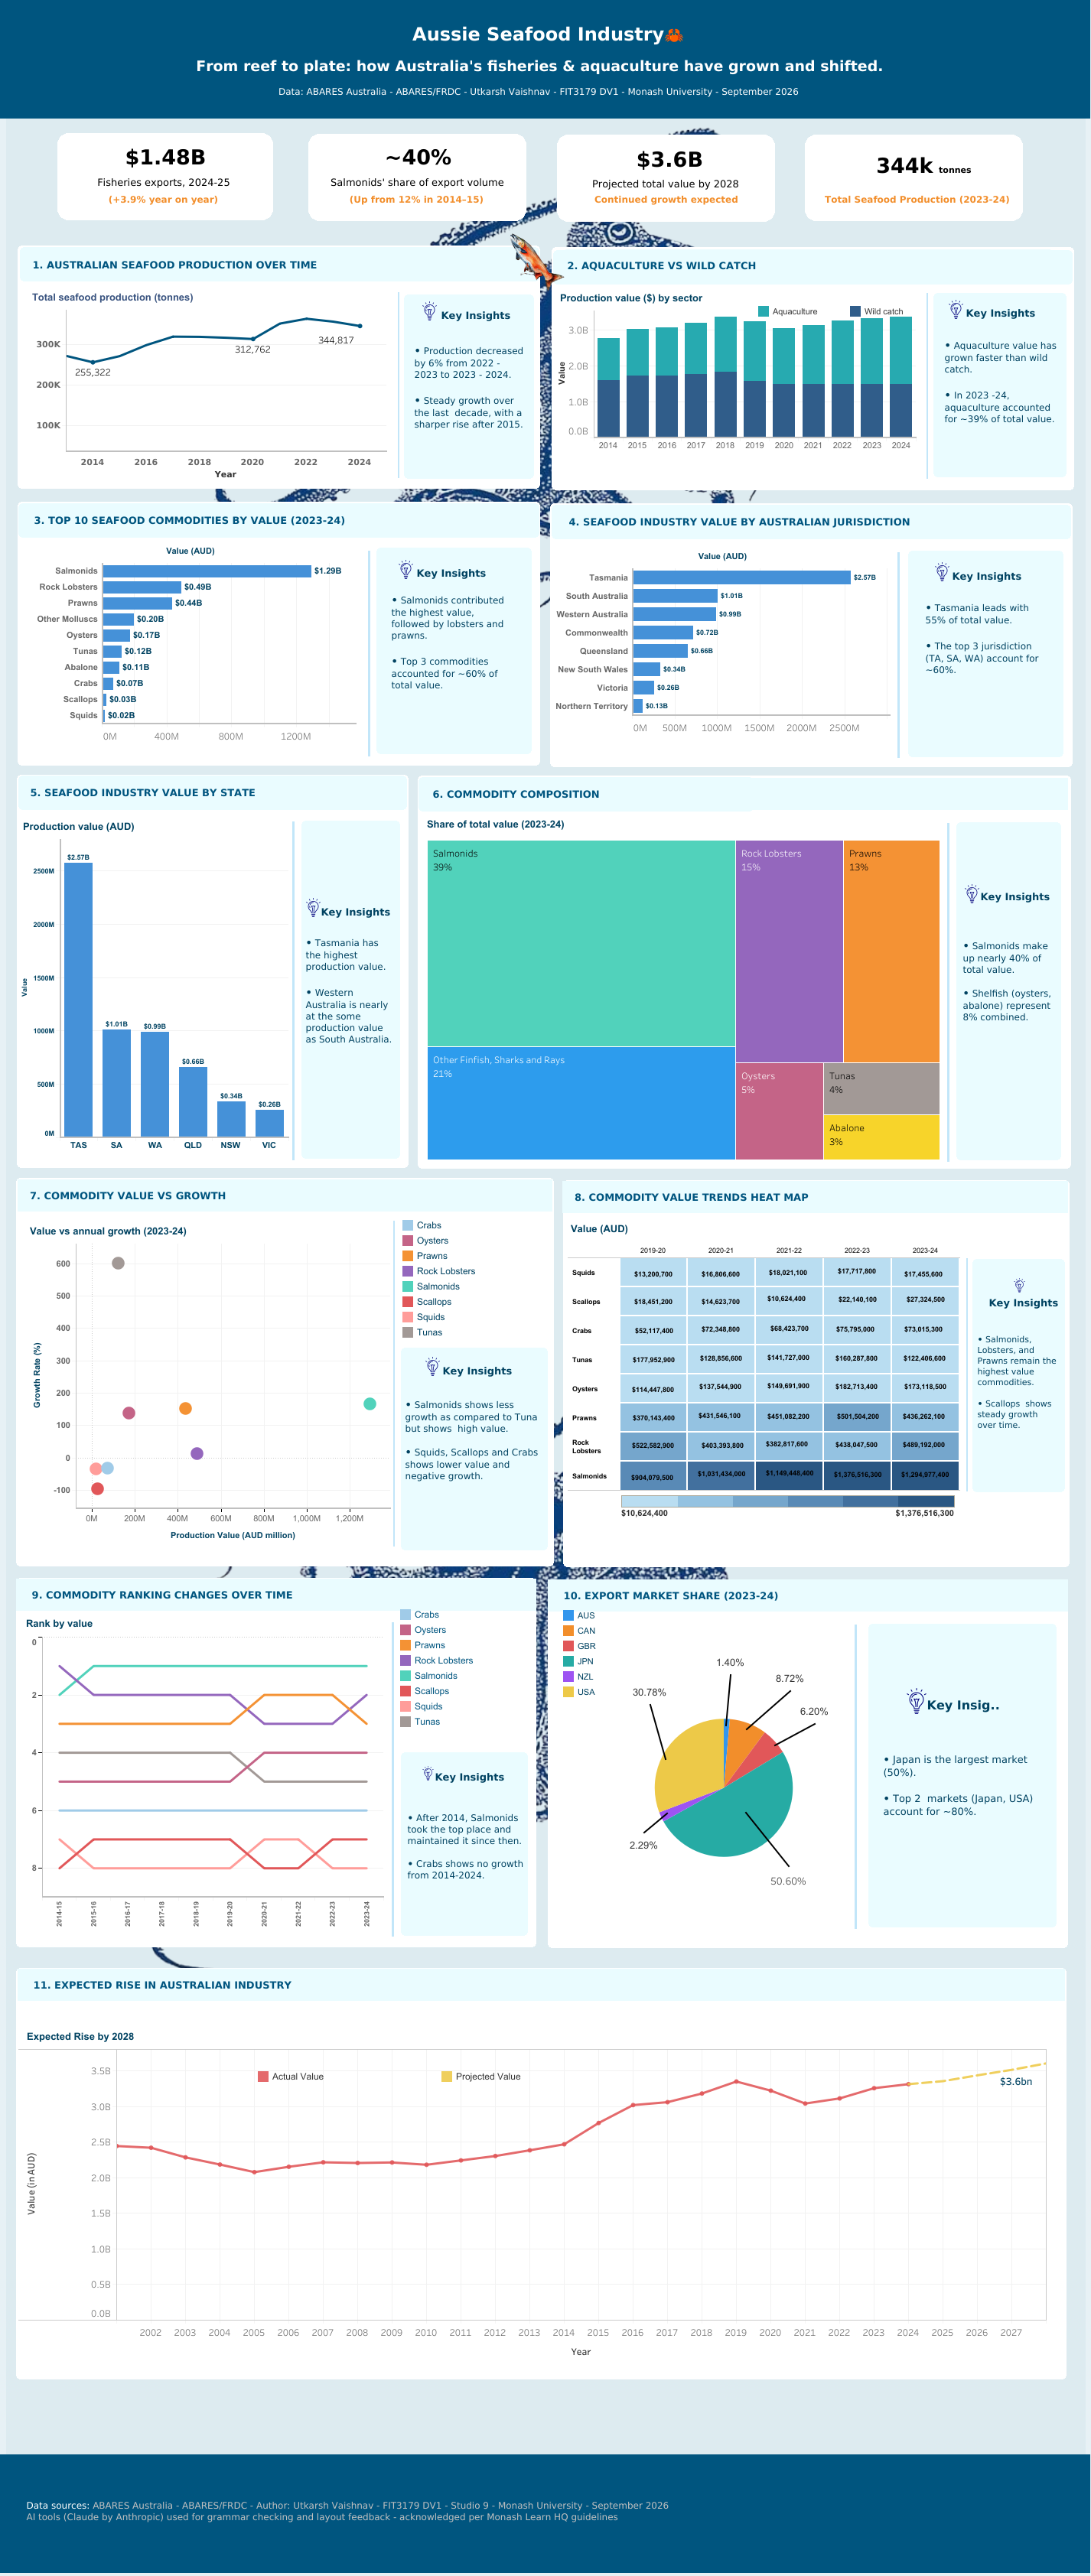

The page's visual inventory and layout, read from the dashboard file:
{"tool":"tableau","page":{"name":"Dashboard 1","canvas":[1427,3369],"ordinal":0},"visuals":[{"type":"text","box":[34.7,26,1338.1,186]},{"type":"text","box":[62.5,39,1285.3,94]},{"type":"image","param":"Image/ca36cdabced190f3acdcf8e02199de78-removebg-preview.png","box":[272,159,810,1063]},{"type":"text","box":[1138,183,139,66]},{"type":"text","box":[147,190,139,30]},{"type":"text","box":[477,190,139,30]},{"type":"text","box":[806,193,139,30]},{"type":"text","box":[398,205,295,67]},{"type":"text","box":[713,225,314,30]},{"type":"text","box":[79,229,270,19]},{"type":"text","box":[118,245,191,30]},{"type":"text","box":[386.3,245,316.8,30]},{"type":"text","box":[721.1,245,300.1,30]},{"type":"text","box":[1042,245,314,30]},{"type":"image","param":"Image/pngtree-salmon-fish-water-color-sketch-line-art-png-image_14902495-removeb","box":[654,294,92,88]},{"type":"text","box":[40,325,643,42]},{"type":"text","box":[739,326,634,42]},{"type":"worksheet","title":"Sheet 10","mark":"Line","rows":["Production (metric tons)"],"cols":["Year"],"box":[38,375,471,257]},{"type":"worksheet","title":"Wild-catch vs aquaculture","mark":"Bar","rows":["Value"],"cols":["Financial Year"],"box":[728,376,469,243]},{"type":"text","box":[1232,376,156,246]},{"type":"text","box":[539,383,149,246]},{"type":"image","param":"Image/images-removebg-preview.png","box":[1237,392,25,34]},{"type":"image","param":"Image/images-removebg-preview.png","box":[549,394,25,34]},{"type":"text","box":[1260,394,100,30]},{"type":"text","box":[574,397,100,30]},{"type":"legend","title":"Wild-catch vs aquaculture","param":"[federated.02ami820kcus3v1bk5k730sdf4ne].[none:Sector:nk]","box":[988,397,309,64]},{"type":"text","box":[42,659,643,42]},{"type":"text","box":[741,661,643,42]},{"type":"worksheet","title":"Sheet 11","mark":"Automatic","rows":["Commodity"],"cols":["Value"],"box":[33,708,432,303]},{"type":"text","box":[1207,711,164,246]},{"type":"worksheet","title":"Sheet 12","mark":"Automatic","rows":["F1"],"cols":["Value"],"box":[726,715,437,274]},{"type":"text","box":[509,716,164,246]},{"type":"image","param":"Image/images-removebg-preview.png","box":[518,732,25,34]},{"type":"text","box":[542,734,100,30]},{"type":"image","param":"Image/images-removebg-preview.png","box":[1219,735,25,34]},{"type":"text","box":[1242,738,100,30]},{"type":"text","box":[37,1015,484,42]},{"type":"text","box":[563,1017,833,42]},{"type":"worksheet","title":"Sheet 14","mark":"Automatic","box":[554,1064,680,456]},{"type":"worksheet","title":"Sheet 13","mark":"Bar","rows":["Value"],"cols":["Calculation_1604505215623168"],"box":[26,1067,351,444]},{"type":"text","box":[1256,1154,127,257]},{"type":"image","param":"Image/images-removebg-preview.png","box":[1258,1156,25,34]},{"type":"text","box":[1279,1157,106,30]},{"type":"image","param":"Image/images-removebg-preview.png","box":[397,1174,25,34]},{"type":"text","box":[417,1177,95,30]},{"type":"text","box":[397,1178,123,233]},{"type":"text","box":[23,1542,699,42]},{"type":"text","box":[735,1544,661,42]},{"type":"legend","title":"Sheet 15","param":"[federated.05oxep411x14ya19kbubf0vvo4pn].[none:Commodity:nk]","box":[523,1592,156,239]},{"type":"worksheet","title":"Sheet 16","mark":"Square","rows":["Commodity"],"cols":["Financial Year"],"box":[741,1593,631,399]},{"type":"worksheet","title":"Sheet 15","mark":"Circle","cols":["Value"],"box":[35,1596,475,418]},{"type":"image","param":"Image/images-removebg-preview.png","box":[1323,1671,19,27]},{"type":"text","box":[1290,1688,106,30]},{"type":"text","box":[1275,1700,110,214]},{"type":"image","param":"Image/images-removebg-preview.png","box":[553,1774,25,34]},{"type":"text","box":[527,1775,185,214]},{"type":"text","box":[576,1777,100,30]},{"type":"legend","title":"Sheet 16","param":"[federated.05oxep411x14ya19kbubf0vvo4pn].[sum:Value:qk]","box":[808,1951,444,54]},{"type":"text","box":[21,2064,680,42]},{"type":"text","box":[716,2065,680,42]},{"type":"legend","title":"Sheet 17","param":"[federated.05oxep411x14ya19kbubf0vvo4pn].[none:Commodity:nk]","box":[520,2101,166,188]},{"type":"legend","title":"Sheet 20","param":"[federated.1tkteve1dmtlg019dbazg057g01v].[none:Country Code:nk]","box":[733,2102,79,173]},{"type":"worksheet","title":"Sheet 17","mark":"Line","cols":["Financial Year"],"box":[29,2109,474,431]},{"type":"worksheet","title":"Sheet 20","mark":"Pie","box":[736,2142,475,446]},{"type":"text","box":[1152,2176,223,316]},{"type":"image","param":"Image/images-removebg-preview.png","box":[1181,2207,34,65]},{"type":"text","box":[1209,2214,106,30]},{"type":"image","param":"Image/images-removebg-preview.png","box":[435,2239,25,34]},{"type":"text","box":[530,2307,159,214]},{"type":"text","box":[566,2308,106,30]},{"type":"image","param":"Image/images-removebg-preview.png","box":[550,2309,19,27]},{"type":"text","box":[23,2574,1369,42]},{"type":"worksheet","title":"Projection Value","mark":"Line","rows":["Calculation_0567388670115846","Calculation_0567388668182533"],"cols":["Year"],"box":[24,2649,1344,442]},{"type":"legend","title":"Projection Value","param":"[federated.06z20yh0vod36c13aw7mb0q70pxr].[:Measure Names]","box":[334,2705,703,119]}]}

Visuals, with their boxes in screenshot pixels (x1, y1, x2, y2), scaled from the page's 1427x3369 canvas onto the 1091x2576 screenshot:
text: bbox=(27, 20, 1050, 162)
text: bbox=(47, 30, 1031, 102)
image: bbox=(208, 122, 827, 935)
text: bbox=(870, 140, 976, 190)
text: bbox=(112, 145, 219, 168)
text: bbox=(365, 145, 471, 168)
text: bbox=(616, 148, 722, 171)
text: bbox=(305, 157, 530, 208)
text: bbox=(545, 172, 785, 195)
text: bbox=(60, 175, 267, 190)
text: bbox=(90, 187, 236, 210)
text: bbox=(295, 187, 538, 210)
text: bbox=(552, 187, 780, 210)
text: bbox=(796, 187, 1037, 210)
image: bbox=(500, 225, 570, 292)
text: bbox=(31, 249, 523, 281)
text: bbox=(565, 249, 1050, 281)
"Sheet 10" worksheet (Line marks): bbox=(29, 287, 389, 483)
"Wild-catch vs aquaculture" worksheet (Bar marks): bbox=(556, 288, 915, 473)
text: bbox=(942, 288, 1061, 476)
text: bbox=(412, 293, 526, 481)
image: bbox=(946, 300, 965, 326)
image: bbox=(420, 301, 439, 327)
text: bbox=(963, 301, 1040, 324)
text: bbox=(439, 304, 516, 327)
"Wild-catch vs aquaculture" legend: bbox=(755, 304, 992, 353)
text: bbox=(32, 504, 524, 536)
text: bbox=(566, 506, 1058, 538)
"Sheet 11" worksheet: bbox=(25, 542, 356, 773)
text: bbox=(923, 544, 1048, 732)
"Sheet 12" worksheet: bbox=(555, 547, 889, 756)
text: bbox=(389, 548, 515, 736)
image: bbox=(396, 560, 415, 586)
text: bbox=(415, 561, 491, 584)
image: bbox=(932, 562, 951, 588)
text: bbox=(949, 564, 1026, 587)
text: bbox=(28, 776, 399, 808)
text: bbox=(431, 778, 1067, 810)
"Sheet 14" worksheet: bbox=(424, 814, 943, 1163)
"Sheet 13" worksheet (Bar marks): bbox=(20, 816, 288, 1156)
text: bbox=(960, 883, 1057, 1079)
image: bbox=(962, 884, 981, 910)
text: bbox=(978, 885, 1059, 908)
image: bbox=(304, 898, 323, 924)
text: bbox=(319, 900, 392, 923)
text: bbox=(304, 901, 398, 1079)
text: bbox=(18, 1179, 552, 1212)
text: bbox=(562, 1181, 1067, 1213)
"Sheet 15" legend: bbox=(400, 1218, 519, 1400)
"Sheet 16" worksheet (Square marks): bbox=(566, 1218, 1049, 1523)
"Sheet 15" worksheet (Circle marks): bbox=(27, 1221, 390, 1540)
image: bbox=(1011, 1278, 1026, 1298)
text: bbox=(986, 1290, 1067, 1313)
text: bbox=(975, 1299, 1059, 1463)
image: bbox=(423, 1356, 442, 1382)
text: bbox=(403, 1357, 545, 1521)
text: bbox=(441, 1358, 517, 1381)
"Sheet 16" legend: bbox=(617, 1491, 957, 1533)
text: bbox=(16, 1578, 536, 1610)
text: bbox=(547, 1579, 1067, 1611)
"Sheet 17" legend: bbox=(398, 1606, 525, 1750)
"Sheet 20" legend: bbox=(560, 1607, 620, 1739)
"Sheet 17" worksheet (Line marks): bbox=(22, 1612, 385, 1942)
"Sheet 20" worksheet (Pie marks): bbox=(562, 1638, 926, 1979)
text: bbox=(881, 1664, 1051, 1905)
image: bbox=(903, 1687, 929, 1737)
text: bbox=(924, 1693, 1005, 1716)
image: bbox=(333, 1712, 352, 1738)
text: bbox=(405, 1764, 527, 1927)
text: bbox=(433, 1764, 514, 1787)
image: bbox=(421, 1765, 435, 1786)
text: bbox=(18, 1968, 1064, 2000)
"Projection Value" worksheet (Line marks): bbox=(18, 2025, 1046, 2363)
"Projection Value" legend: bbox=(256, 2068, 793, 2159)
